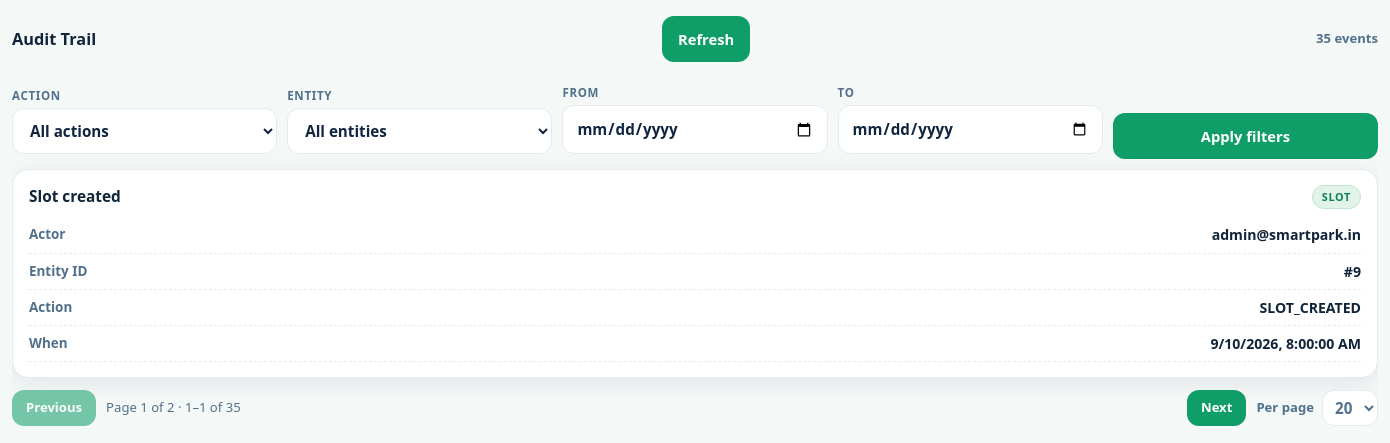
Test: AdminAudit › paginates forward and disables the Next button on the last page
Check: the button "Previous" is disabled, box [12,390,96,426]
Click the button "Next" at (1217, 408), box [1187,390,1246,426]
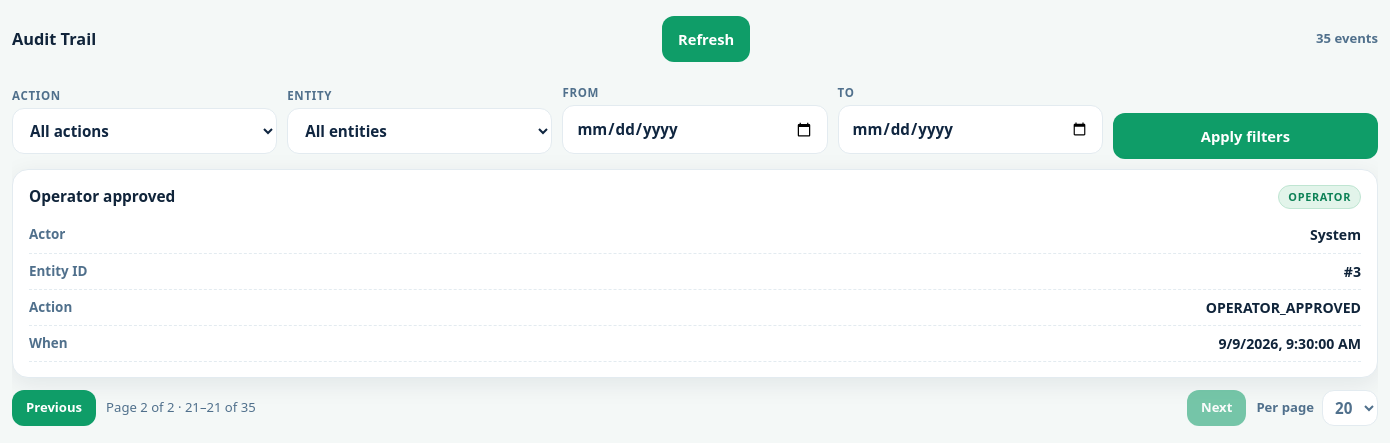
Check: the text "Page 2 of 2" is shown, box [106,398,256,416]
Check: the button "Next" is disabled, box [1187,390,1246,426]
Check: the button "Previous" is enabled, box [12,390,96,426]
